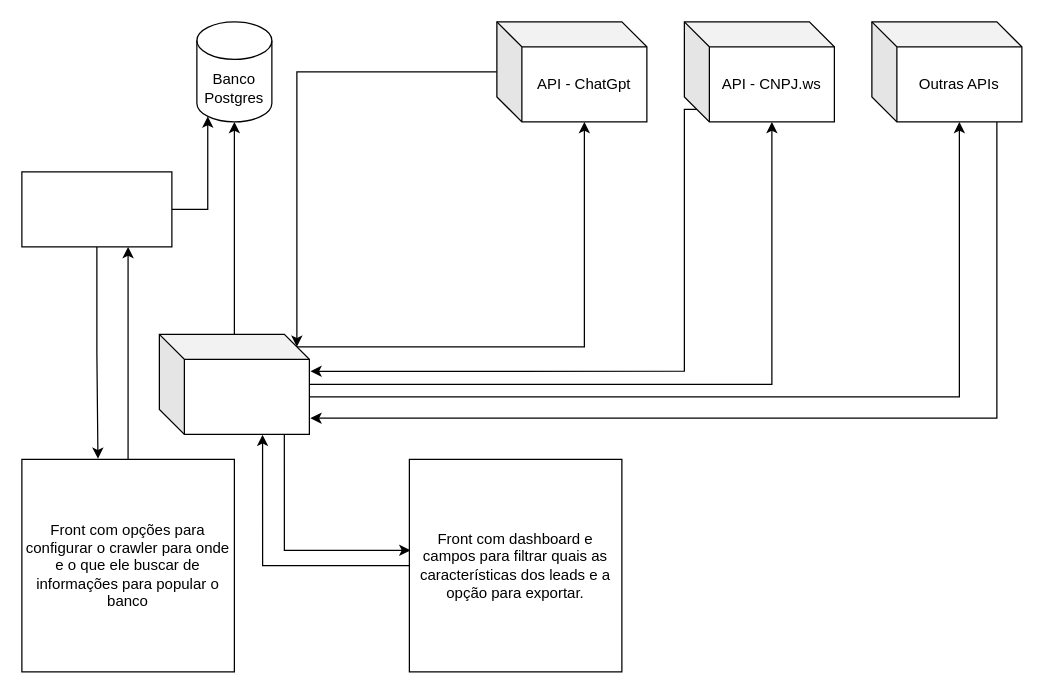
Image size: 1044x694. Some labels were removed from this diagram. Each missing label, with the centre of its shape:
"API - A45" belongs at point (233, 383).
"Web Crawler" belongs at point (96, 209).
